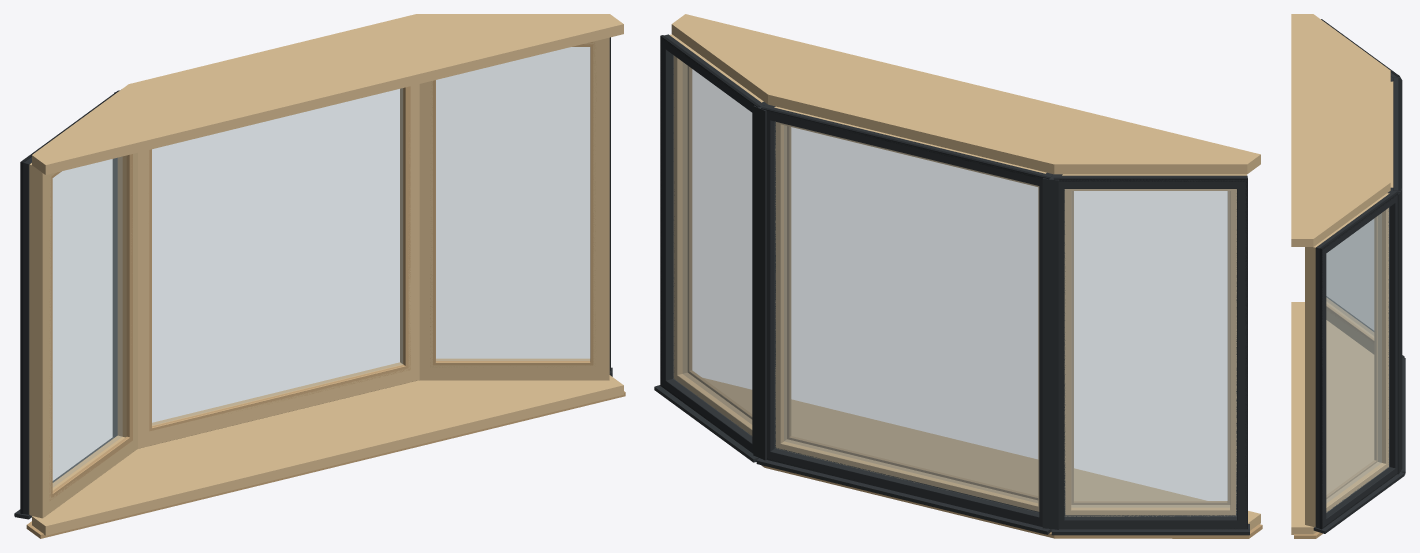
Rendered from combination-bay.glb.
3 views of the same model, side by side, from view 1: azimuth 30°, elevation 25°; view 2: azimuth 150°, elevation 25°; view 3: azimuth 270°, elevation 25° (orthographic). The views are drawn at different scales.
Parts seen in each view (by area): view 1: panel_2_glass, panel_3_glass, head_board, seat_board, panel_1_glass, panel_1_liner_int, panel_3_liner_int, panel_2_liner_int, panel_2_stop_int, panel_1_clad_ext, panel_1_stop_int, panel_3_stop_int (+2 smaller); view 2: panel_2_glass, panel_1_glass, head_board, panel_3_glass, seat_board, panel_2_clad_ext, panel_1_clad_ext, panel_2_liner_int, panel_3_clad_ext, panel_1_liner_int, mullion_1, panel_3_liner_int (+11 smaller); view 3: head_board, panel_3_glass, seat_board, panel_3_liner_int, panel_3_clad_ext, panel_1_glass, mullion_2, panel_3_clad_nose, panel_3_stop_int, panel_1_liner_int, panel_2_clad_ext, sill_3 (+5 smaller).
Part boxes in pixels (x1,y1,x2,y2): panel_2_glass: [152, 88, 402, 425]; panel_3_glass: [436, 47, 590, 360]; head_board: [32, 14, 623, 174]; seat_board: [32, 375, 623, 535]; panel_1_glass: [52, 157, 122, 486]; panel_1_liner_int: [29, 152, 137, 518]; panel_3_liner_int: [419, 37, 609, 380]; panel_2_liner_int: [138, 84, 419, 448]; panel_2_stop_int: [149, 86, 410, 431]; panel_1_clad_ext: [23, 157, 117, 514]; panel_1_stop_int: [49, 154, 132, 500]; panel_3_stop_int: [430, 42, 596, 367]; panel_2_glass: [775, 122, 1038, 512]; panel_1_glass: [1065, 189, 1236, 516]; head_board: [671, 14, 1260, 174]; panel_3_glass: [673, 55, 752, 435]; seat_board: [703, 378, 1260, 532]; panel_2_clad_ext: [764, 105, 1052, 526]; panel_1_clad_ext: [1054, 175, 1247, 529]; panel_2_liner_int: [774, 106, 1046, 511]; panel_3_clad_ext: [660, 34, 764, 453]; panel_1_liner_int: [1062, 174, 1246, 516]; mullion_1: [1042, 172, 1062, 529]; panel_3_liner_int: [669, 34, 763, 435]; head_board: [1291, 14, 1390, 246]; panel_3_glass: [1326, 208, 1389, 512]; seat_board: [1291, 302, 1374, 534]; panel_3_liner_int: [1305, 193, 1389, 527]; panel_3_clad_ext: [1315, 191, 1397, 528]; panel_1_glass: [1326, 219, 1373, 331]; mullion_2: [1388, 187, 1402, 474]; panel_3_clad_nose: [1319, 191, 1399, 529]; panel_3_stop_int: [1326, 216, 1377, 498]; panel_1_liner_int: [1326, 298, 1374, 354]; panel_2_clad_ext: [1393, 78, 1398, 190]; sill_3: [1313, 472, 1404, 533].
Size of the model in its own units: 2.5 by 1.49 by 0.5174.
